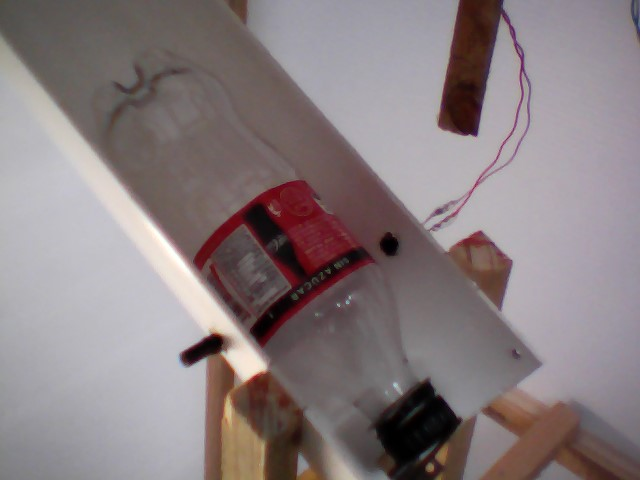plastico: (77, 40, 469, 471)
